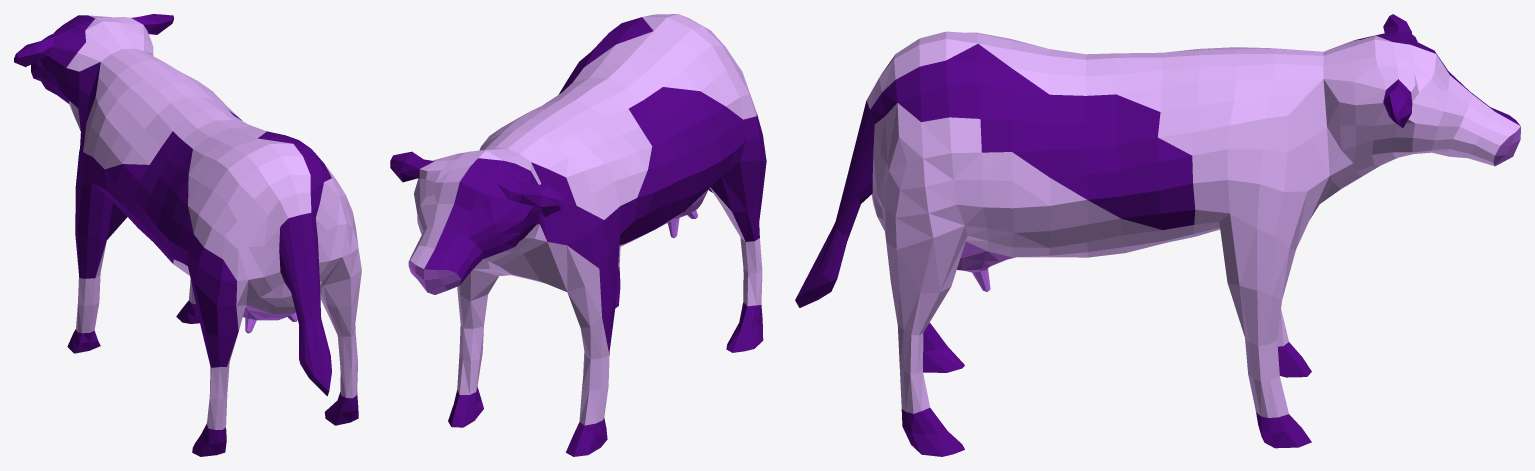
Rendered from Cow.fbx.
3 views of the same model, side by side, from view 1: azimuth 30°, elevation 25°; view 2: azimuth 150°, elevation 25°; view 3: azimuth 270°, elevation 25° (orthographic). The views are drawn at different scales.
Parts seen in each view (by area): view 1: Cow; view 2: Cow; view 3: Cow.
Boxes of the visible parts, bbox=[...] form: Cow: bbox=[14, 14, 361, 456]; Cow: bbox=[390, 14, 766, 456]; Cow: bbox=[795, 14, 1520, 456].
Size of the model in its own units: 1.02 by 1.73 by 3.09.
